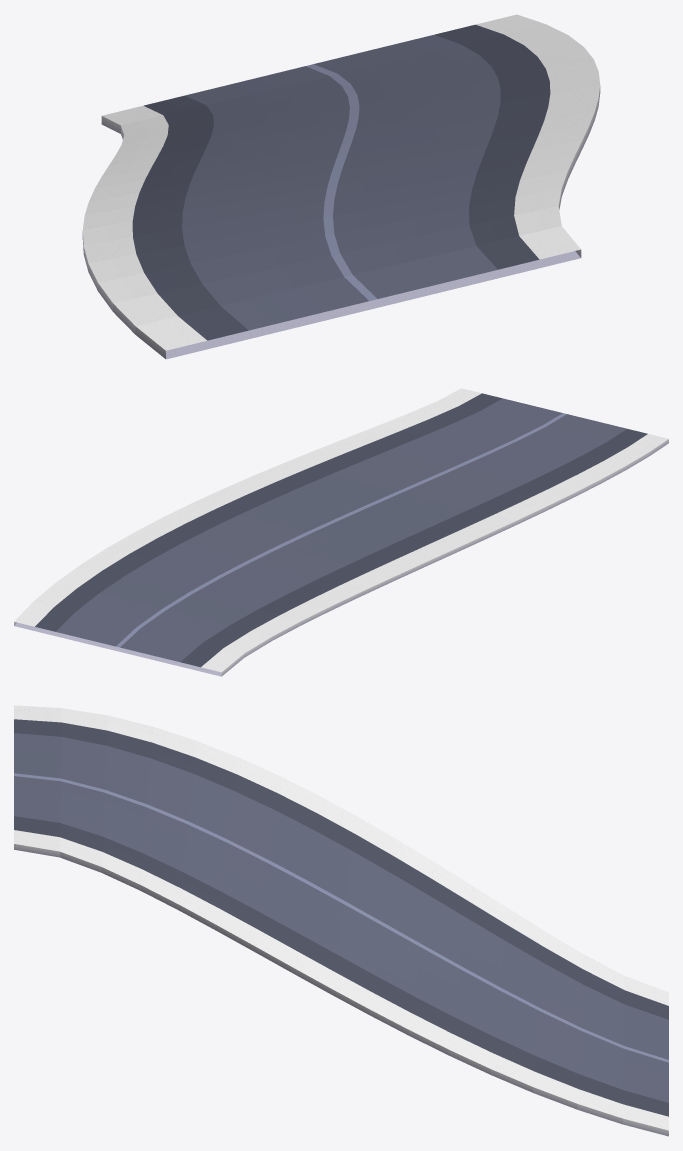
Rendered from road-Chicane-Flat-BiSlopeDown-Down2-Right1-Size2.glb.
3 views of the same model, one above another, from view 1: azimuth 30°, elevation 25°; view 2: azimuth 150°, elevation 25°; view 3: azimuth 270°, elevation 25° (orthographic). The views are drawn at different scales.
Parts seen in each view (by area): view 1: road-Chicane-Flat-BiSlopeDown-Down2-Right1-Size2; view 2: road-Chicane-Flat-BiSlopeDown-Down2-Right1-Size2; view 3: road-Chicane-Flat-BiSlopeDown-Down2-Right1-Size2.
Boxes of the visible parts, x1,y1,x2,y2 form: road-Chicane-Flat-BiSlopeDown-Down2-Right1-Size2: [82, 14, 600, 359]; road-Chicane-Flat-BiSlopeDown-Down2-Right1-Size2: [14, 388, 668, 676]; road-Chicane-Flat-BiSlopeDown-Down2-Right1-Size2: [14, 705, 668, 1136].
Size of the model in its own units: 2 by 0.52 by 2.
1 material, 1 textured.
